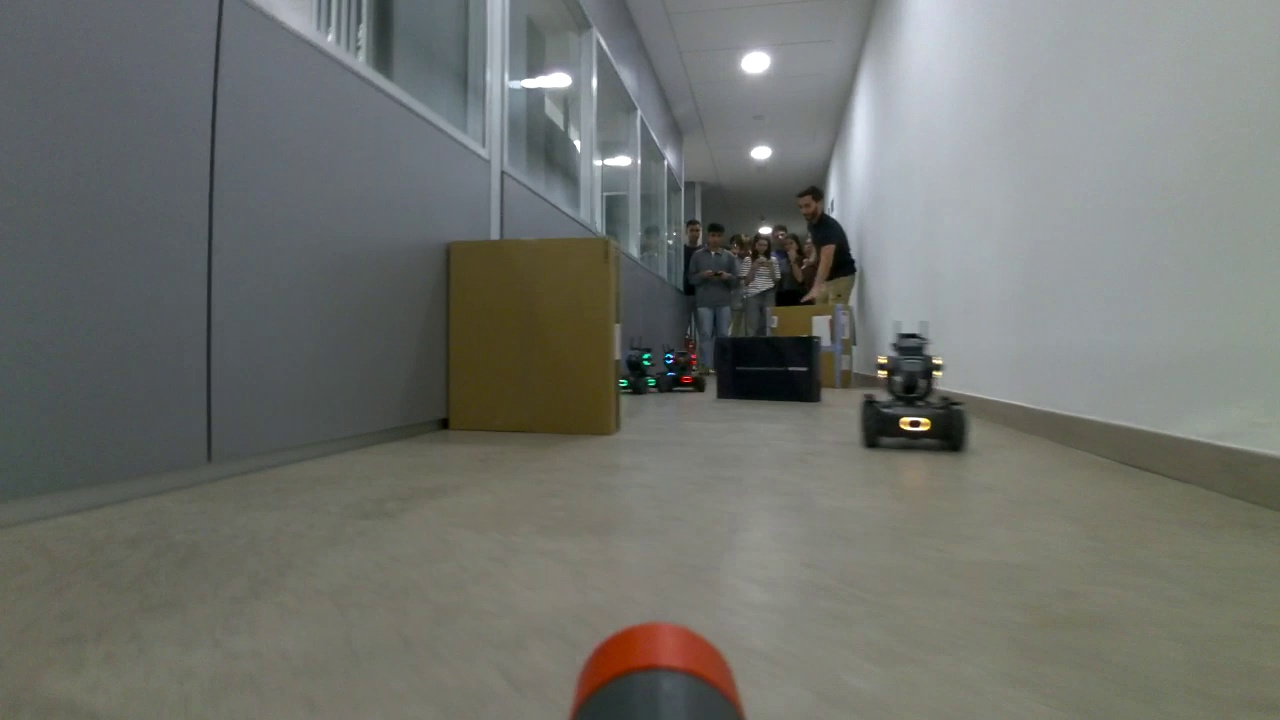robot: (861, 332, 970, 452)
